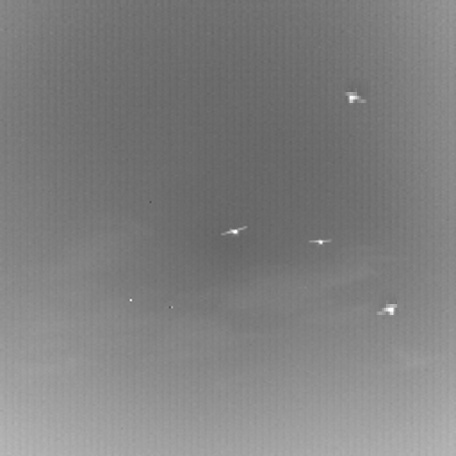plane: (370, 289, 400, 319), (342, 76, 372, 106), (218, 219, 244, 234), (308, 233, 331, 247)
